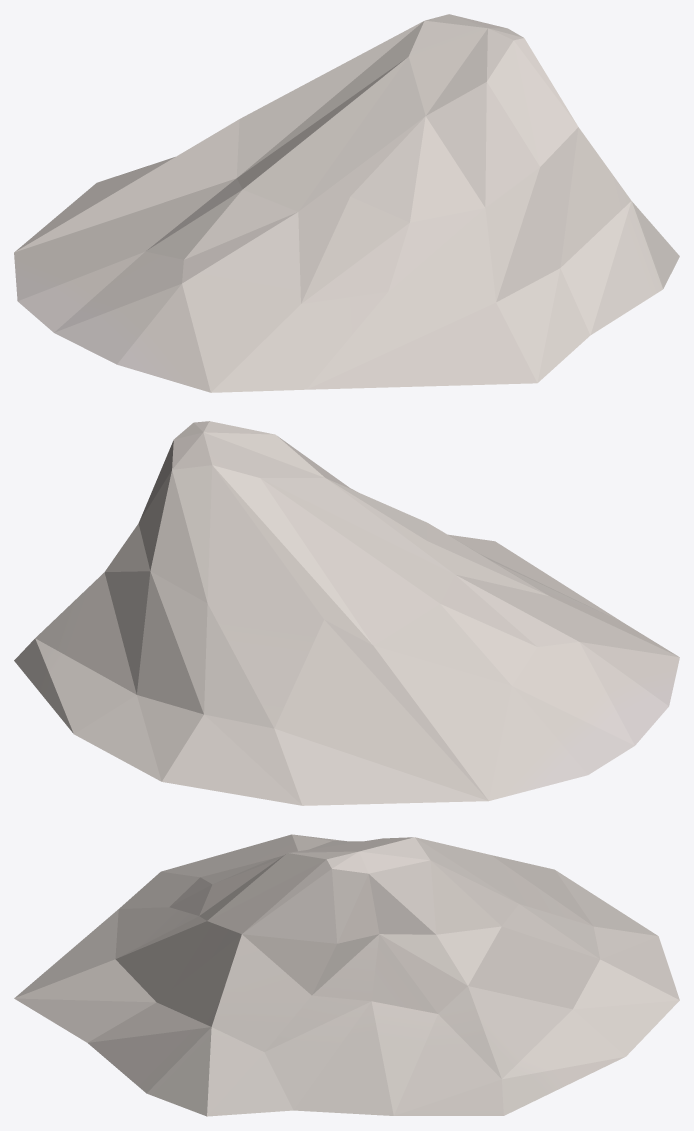
Rendered from deepSnow.fbx.
3 views of the same model, one above another, from view 1: azimuth 30°, elevation 25°; view 2: azimuth 150°, elevation 25°; view 3: azimuth 270°, elevation 25° (orthographic). The views are drawn at different scales.
Visible parts, largest first — view 1: deepSnow; view 2: deepSnow; view 3: deepSnow.
Part boxes in pixels (left/top/right/bottom): deepSnow: left=14, top=14, right=679, bottom=392; deepSnow: left=14, top=421, right=679, bottom=805; deepSnow: left=14, top=834, right=679, bottom=1116.
Bounding box in the file's own units: 2.76 × 0.9728 × 2.84.
